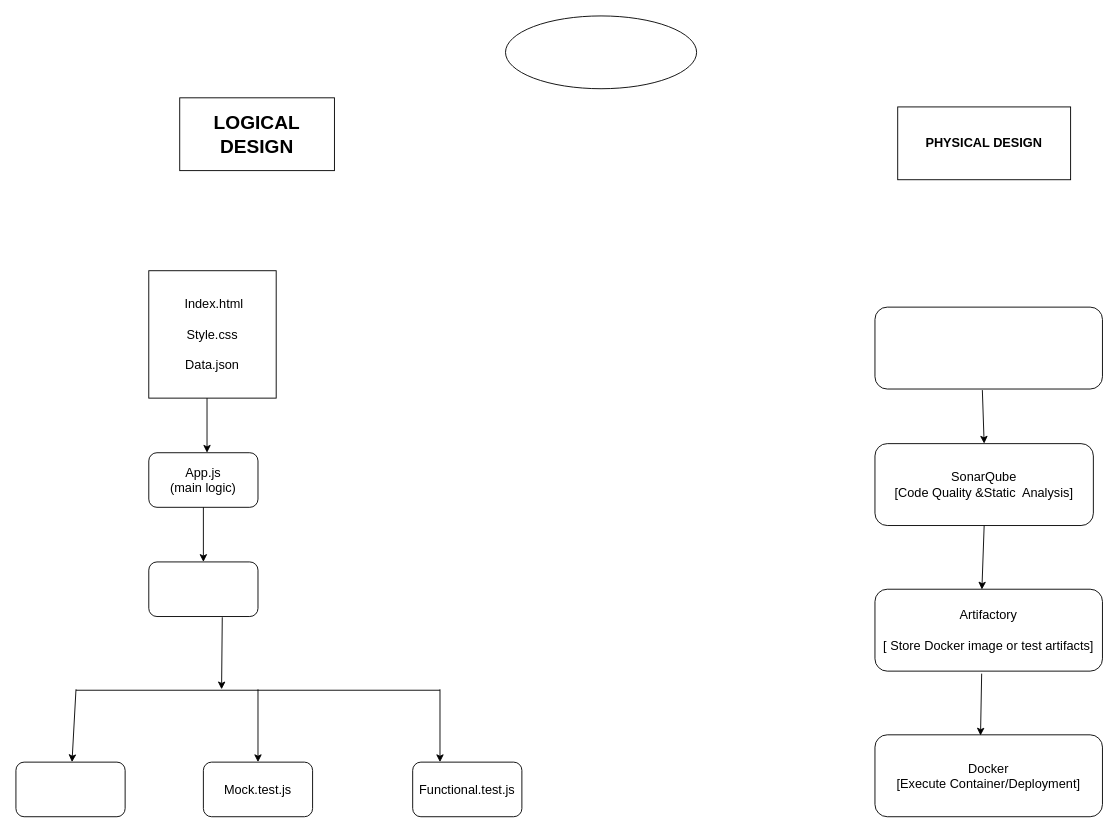
This 1118x833 diagram has some shape labels left out. The box of each missing label's shape, as (x1, y1, x2, y2) in pixels:
Developer PC [HTML, CSS, JavaScript, VS Code, Jest, Git]: (874, 306, 1102, 389)
Logic.js: (148, 561, 258, 617)
SYSTEM DESIGN: (505, 15, 697, 89)
Unit.test.js: (15, 761, 125, 817)
